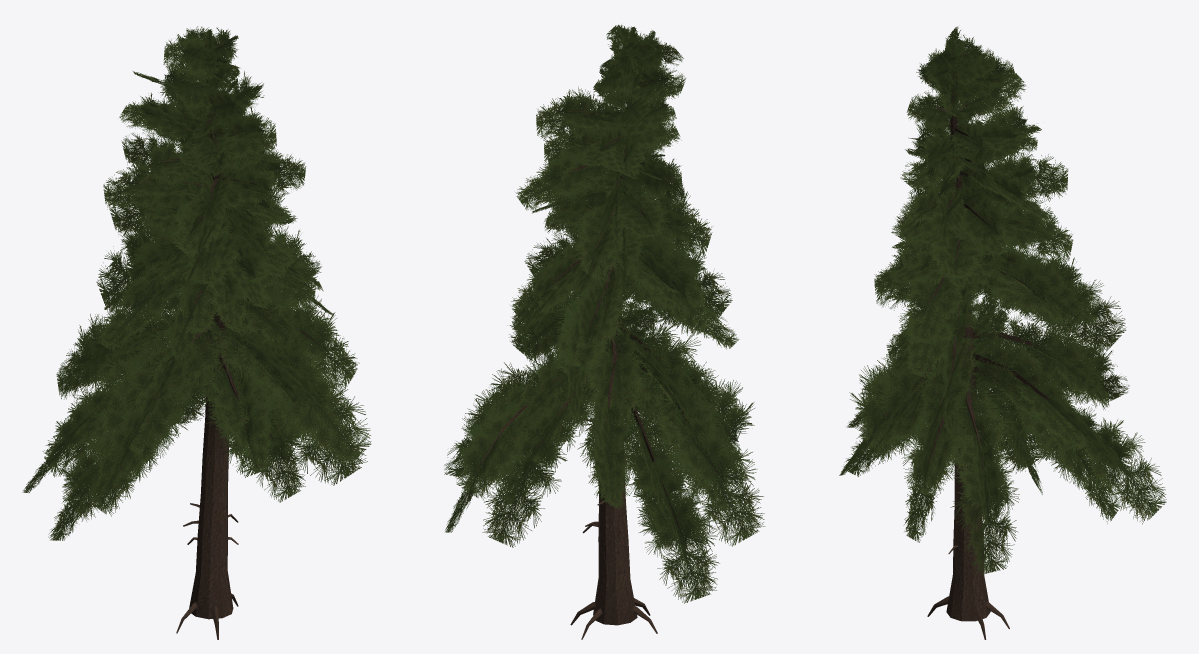
Rendered from pine_b.glb.
3 renders of one model, left to right at view 1: azimuth 30°, elevation 25°; view 2: azimuth 150°, elevation 25°; view 3: azimuth 270°, elevation 25°, orthographic. The views are drawn at different scales.
Parts seen in each view (by area): view 1: pine_b_pine_needles_b, pine_b_bark_pine; view 2: pine_b_pine_needles_b, pine_b_bark_pine; view 3: pine_b_pine_needles_b, pine_b_bark_pine.
Boxes of the visible parts, <box> form: pine_b_pine_needles_b: <box>22,26,371,540</box>; pine_b_bark_pine: <box>88,43,316,639</box>; pine_b_pine_needles_b: <box>444,24,765,603</box>; pine_b_bark_pine: <box>477,48,727,639</box>; pine_b_pine_needles_b: <box>839,26,1166,574</box>; pine_b_bark_pine: <box>883,50,1075,639</box>.
Bounding box in the file's own units: 10.43 × 17.45 × 9.58.
2 materials, 2 textured.
